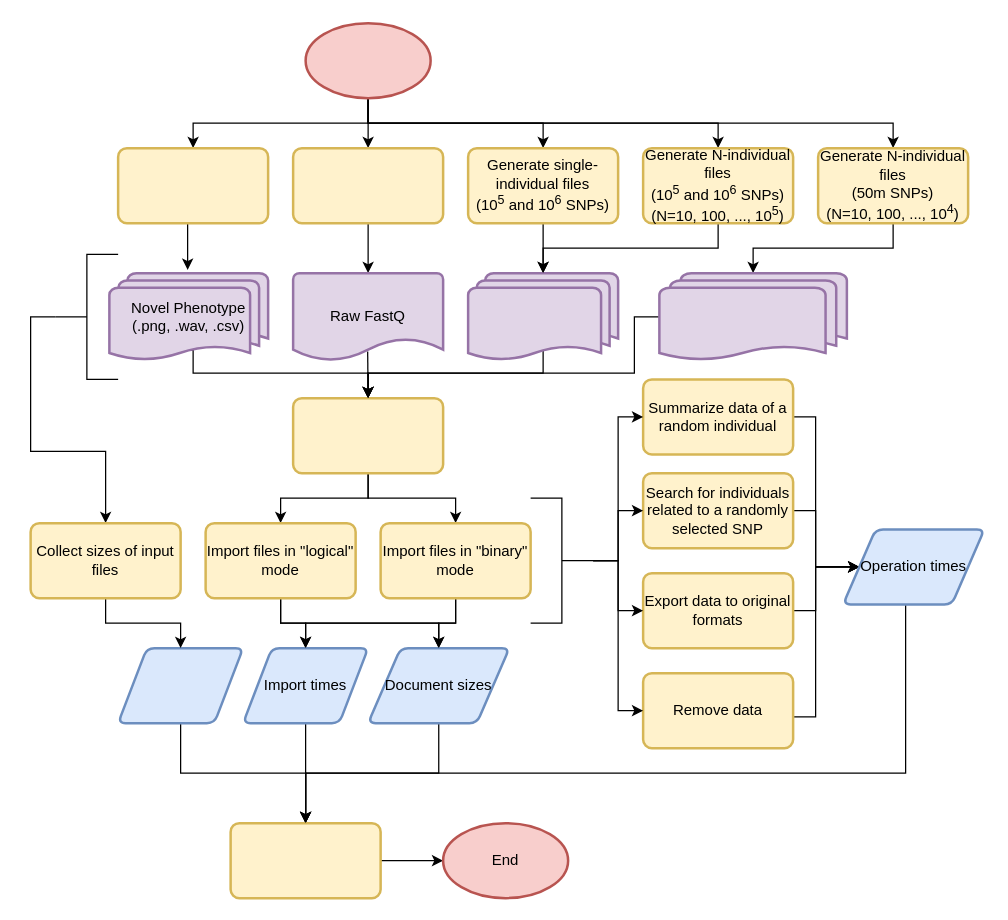
Some shapes in this 1008 by 920 pixel diagram are drawn without their labels. Here are the shapes that lost their labels. From the top down, the centre of each, then its label:
point 367,60: Start
point 192,185: Generate phenotype files
point 367,185: Collect FastQ files (single file for experiment)
point 542,316: 0125, FR, VCF, PLINK
point 753,316: 0125 Seq. (50m SNPs/sample)
point 367,435: Reset Database before operations for each file
point 180,685: File sizes
point 305,860: Collect and analyze operation times and compression ratios
